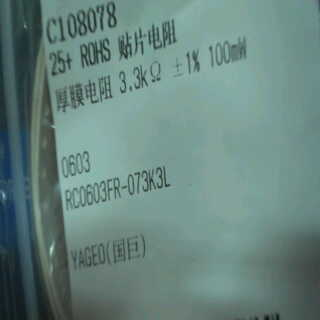3.3kO: (112, 57, 164, 100)
